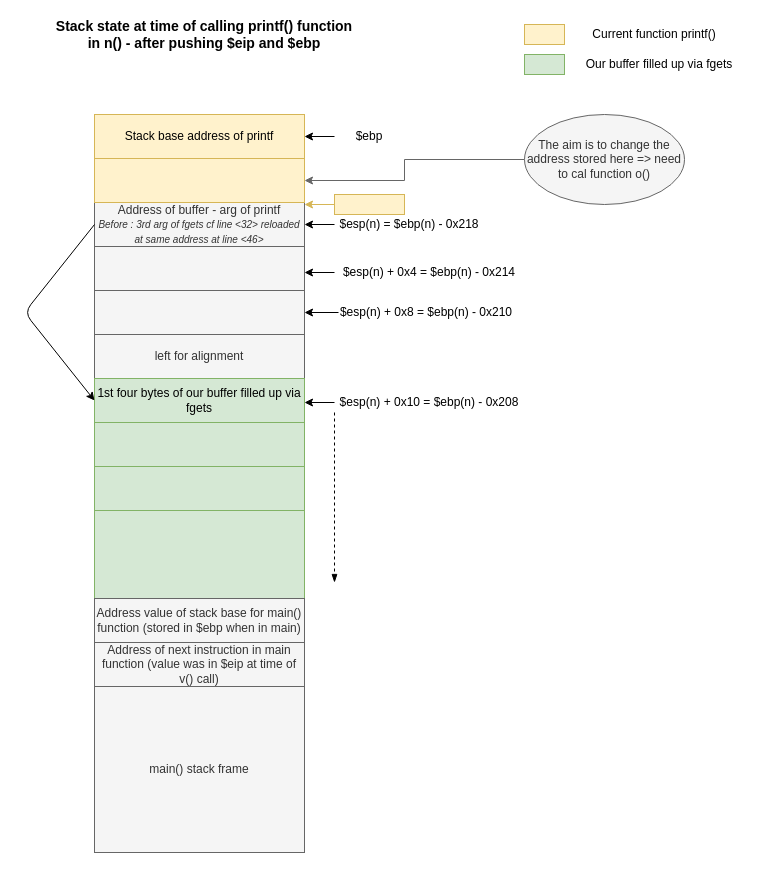
The diagram is 762 pixels wide and 870 high, and some of its shapes have lost their labels. The box of each missing label's shape, as (x1, y1, x2, y2) in pixels:
Address of next instruction of function n() - 0x080484f8 (line <54>): (94, 158, 304, 202)
printf() call: (334, 194, 404, 214)
Size 0x200 - 2nd arg of fgets: (94, 246, 304, 290)
stdin - 1st arg of fgets: (94, 290, 304, 334)
